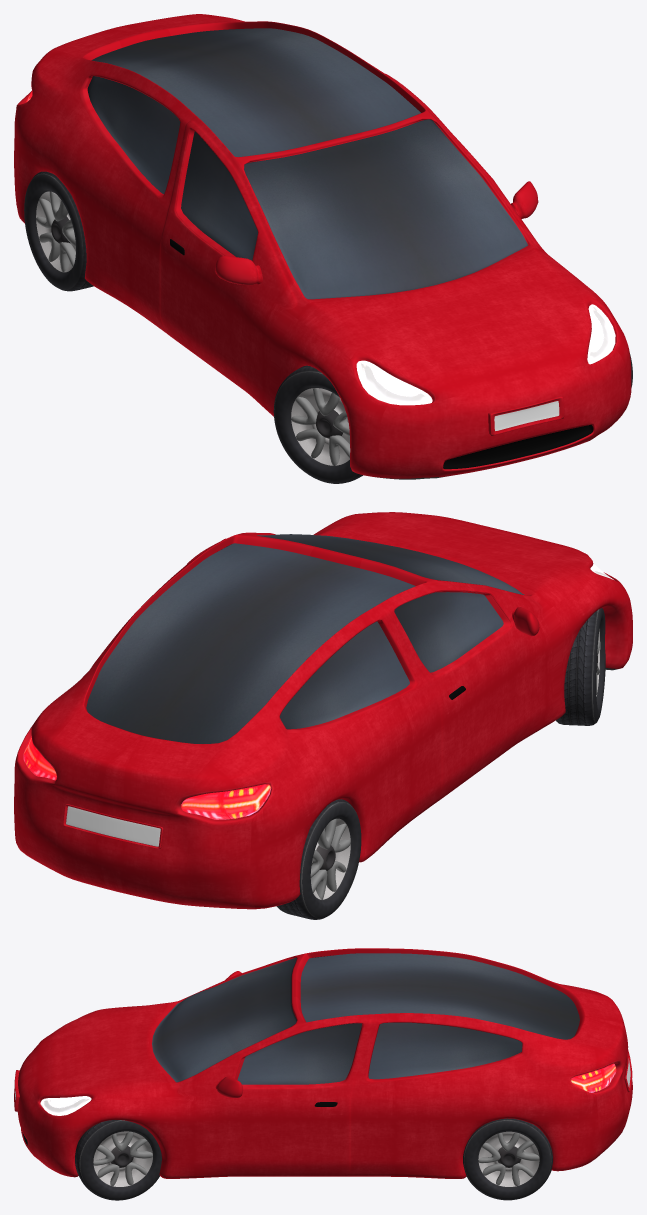
File: Carro.gltf
3 renders of one model, top to bottom at view 1: azimuth 30°, elevation 25°; view 2: azimuth 150°, elevation 25°; view 3: azimuth 270°, elevation 25°, orthographic. The views are drawn at different scales.
Parts seen in each view (by area): view 1: Cube; view 2: Cube; view 3: Cube.
Boxes of the visible parts, x1,y1,x2,y2 form: Cube: (14, 14, 632, 483); Cube: (14, 512, 632, 919); Cube: (14, 948, 632, 1200).
Size of the model in its own units: 1.2 by 0.8374 by 2.74.
